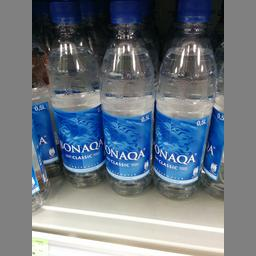water: (153, 0, 217, 199), (44, 0, 102, 189), (98, 0, 153, 195)
